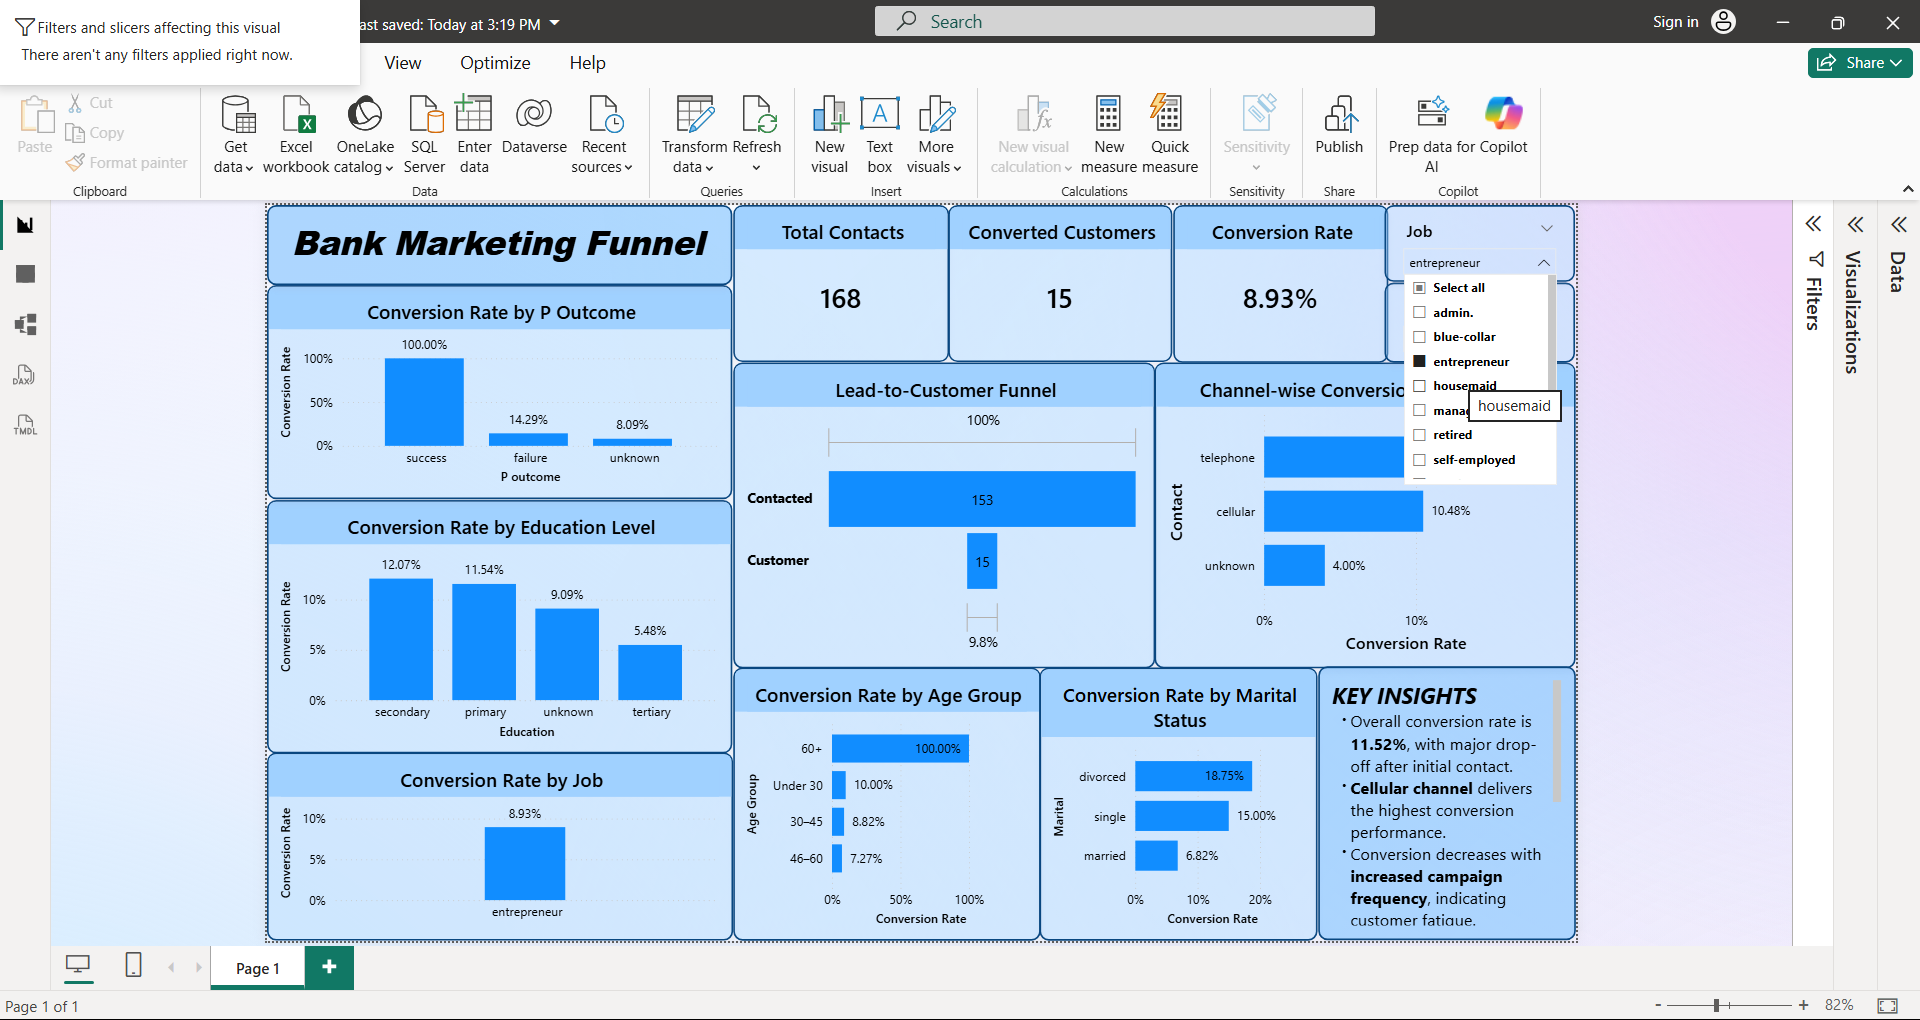

The dashboard page shown, as its layout file describes it:
{"tool":"powerbi","page":{"name":"Page 1","canvas":[1280,720],"ordinal":0},"visuals":[{"type":"card","title":"Total Contacts","fields":{"Values":["Cleaned_Bank_data.Total Contacts"]},"box":[455.6,0,211.3,153.7],"z":0},{"type":"card","title":"Converted Customers","fields":{"Values":["Cleaned_Bank_data.Total Customers"]},"box":[666.9,0,219.6,153.7],"z":1000},{"type":"card","title":"Conversion Rate","fields":{"Values":["Cleaned_Bank_data.Conversion Rate"]},"box":[886.6,0,210.3,154.1],"z":2000},{"type":"funnel","title":"Lead-to-Customer Funnel","fields":{"Y":["Cleaned_Bank_data.Funnel Count"],"Category":["Cleaned_Bank_data.Funnel Stage"]},"box":[455.6,153.7,413,299.1],"z":3000},{"type":"clusteredBarChart","title":"Channel-wise Conversion Performance","fields":{"Category":["Cleaned_Bank_data.Contact"],"Y":["Cleaned_Bank_data.Conversion Rate"]},"box":[868.6,153.7,411.7,299.1],"z":4000},{"type":"slicer","fields":{"Values":["Cleaned_Bank_data.Month"]},"box":[1093.7,75.5,186.6,78.2],"z":5000},{"type":"slicer","fields":{"Values":["Cleaned_Bank_data.Job"]},"box":[1093.7,0,186.6,75.5],"z":6000},{"type":"clusteredBarChart","title":"Conversion Rate by Marital Status","fields":{"Category":["Cleaned_Bank_data.Marital"],"Y":["Cleaned_Bank_data.Conversion Rate"]},"box":[756.1,452.8,271.7,267.6],"z":7000},{"type":"clusteredColumnChart","title":"Conversion Rate by Education Level","fields":{"Category":["Cleaned_Bank_data.Education"],"Y":["Cleaned_Bank_data.Conversion Rate"]},"box":[0,288.2,455.6,248.4],"z":8000},{"type":"clusteredBarChart","fields":{"Category":["Cleaned_Bank_data.Age Group"],"Y":["Cleaned_Bank_data.Conversion Rate"]},"box":[455.6,452.8,300.5,267.6],"z":9000},{"type":"clusteredColumnChart","title":"Conversion Rate by P Outcome","fields":{"Y":["Cleaned_Bank_data.Conversion Rate"],"Category":["Cleaned_Bank_data.P out Come"]},"box":[0,78.2,455.6,209.9],"z":10000},{"type":"textbox","title":"Bank Marketing Funnel","box":[0,0,455.6,78.2],"z":11000},{"type":"clusteredColumnChart","fields":{"Category":["Cleaned_Bank_data.Job"],"Y":["Cleaned_Bank_data.Conversion Rate"]},"box":[0,536,456,184],"z":12000},{"type":"textbox","box":[1028.4,451.2,251.9,267.8],"z":13000}]}

Visuals, with their boxes on the page's 1280x720 design canvas (x1, y1, x2, y2). These are canvas units, not pixel positions in the 1920x1020 screenshot, which may show the page scaled, cropped or inside an application window:
"Total Contacts" card: (456,0,667,154)
"Converted Customers" card: (667,0,886,154)
"Conversion Rate" card: (887,0,1097,154)
"Lead-to-Customer Funnel" funnel: (456,154,869,453)
"Channel-wise Conversion Performance" clusteredBarChart: (869,154,1280,453)
slicer - Cleaned_Bank_data.Month: (1094,76,1280,154)
slicer - Cleaned_Bank_data.Job: (1094,0,1280,76)
"Conversion Rate by Marital Status" clusteredBarChart: (756,453,1028,720)
"Conversion Rate by Education Level" clusteredColumnChart: (0,288,456,537)
clusteredBarChart - Cleaned_Bank_data.Age Group x Cleaned_Bank_data.Conversion Rate: (456,453,756,720)
"Conversion Rate by P Outcome" clusteredColumnChart: (0,78,456,288)
"Bank Marketing Funnel" textbox: (0,0,456,78)
clusteredColumnChart - Cleaned_Bank_data.Job x Cleaned_Bank_data.Conversion Rate: (0,536,456,720)
textbox: (1028,451,1280,719)
